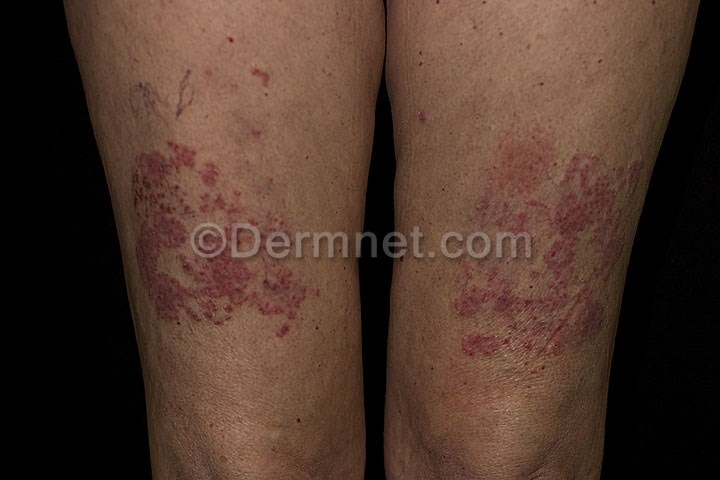Psoriasis: (114, 118, 325, 346), (447, 107, 612, 383)
